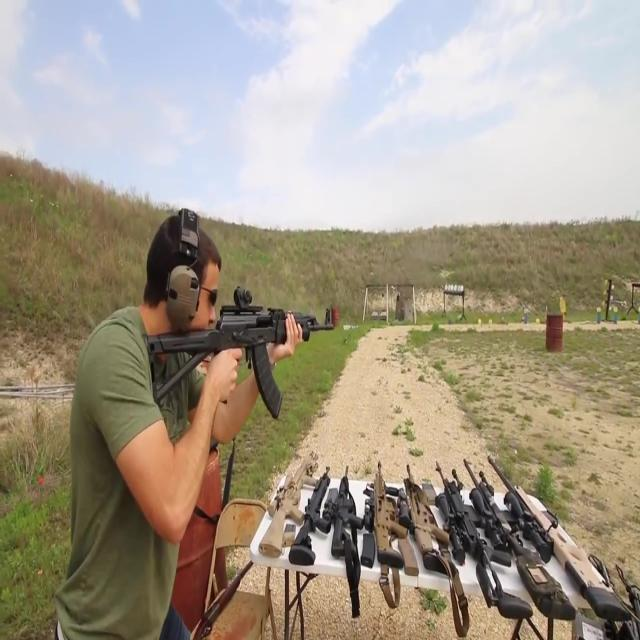Weapon: (216, 418, 636, 640), (113, 281, 345, 426), (153, 506, 270, 631)
